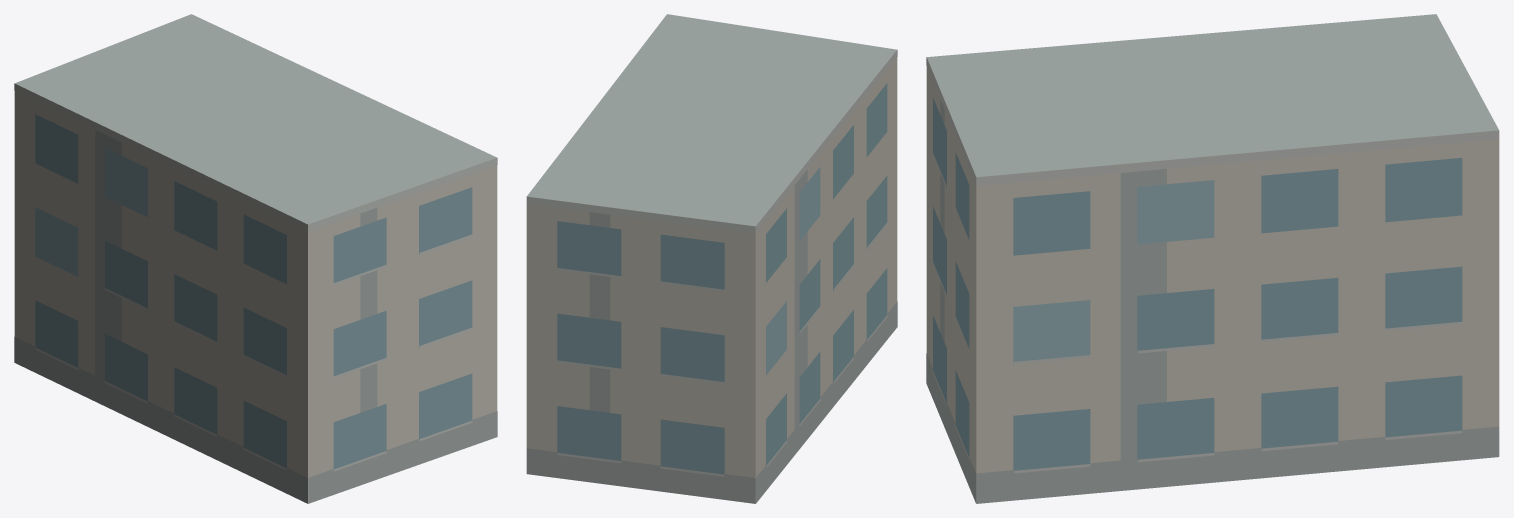
File: survey-upis-32817001.glb
The picture shows the model from 3 angles, left to right: view 1: azimuth 30°, elevation 25°; view 2: azimuth 150°, elevation 25°; view 3: azimuth 270°, elevation 25°; orthographic projection. The views are drawn at different scales.
Visible parts, largest first — view 1: survey-upis-32817001.tmp; view 2: survey-upis-32817001.tmp; view 3: survey-upis-32817001.tmp.
Part boxes in pixels (<box>): survey-upis-32817001.tmp: <box>14,14,497,503</box>; survey-upis-32817001.tmp: <box>526,14,897,503</box>; survey-upis-32817001.tmp: <box>926,14,1499,503</box>.
Bounding box in the file's own units: 9.81 × 9.15 × 14.55.
